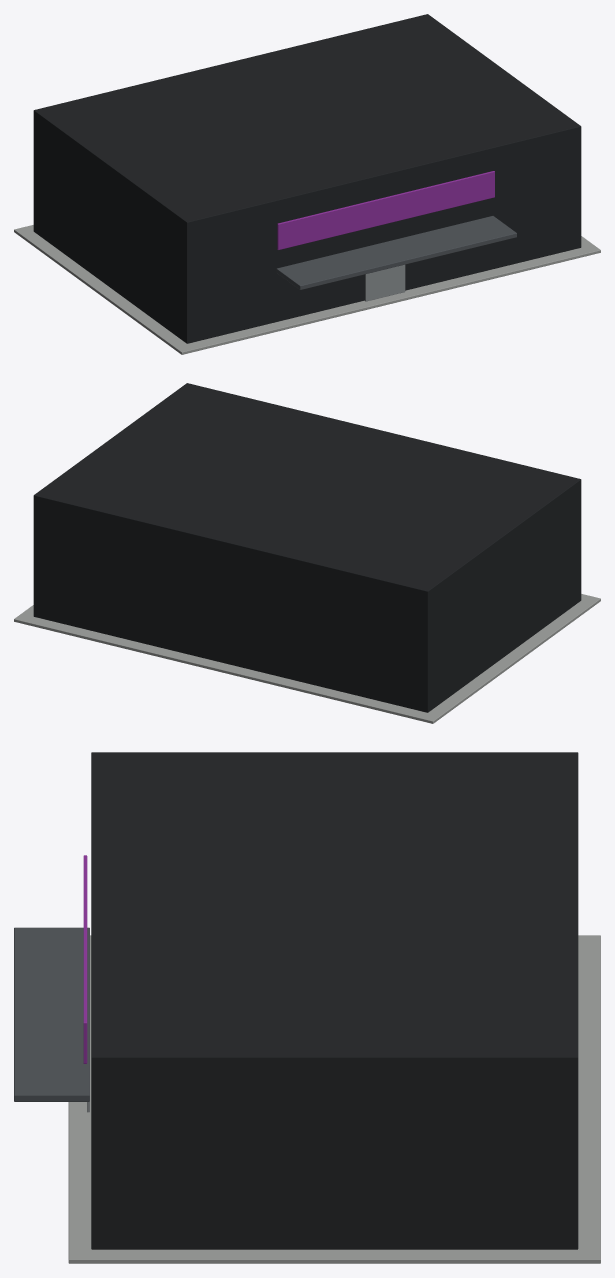
File: Building_Landmark_003.glb
3 views of the same model, one above another, from view 1: azimuth 30°, elevation 25°; view 2: azimuth 150°, elevation 25°; view 3: azimuth 270°, elevation 25° (orthographic). The views are drawn at different scales.
Parts seen in each view (by area): view 1: Building_Landmark_003; view 2: Building_Landmark_003; view 3: Building_Landmark_003.
Part boxes in pixels (bbox=[...]): Building_Landmark_003: bbox=[14, 14, 600, 354]; Building_Landmark_003: bbox=[14, 383, 600, 723]; Building_Landmark_003: bbox=[14, 752, 600, 1263].
Bounding box in the file's own units: 25.27 × 7.16 × 19.33.
